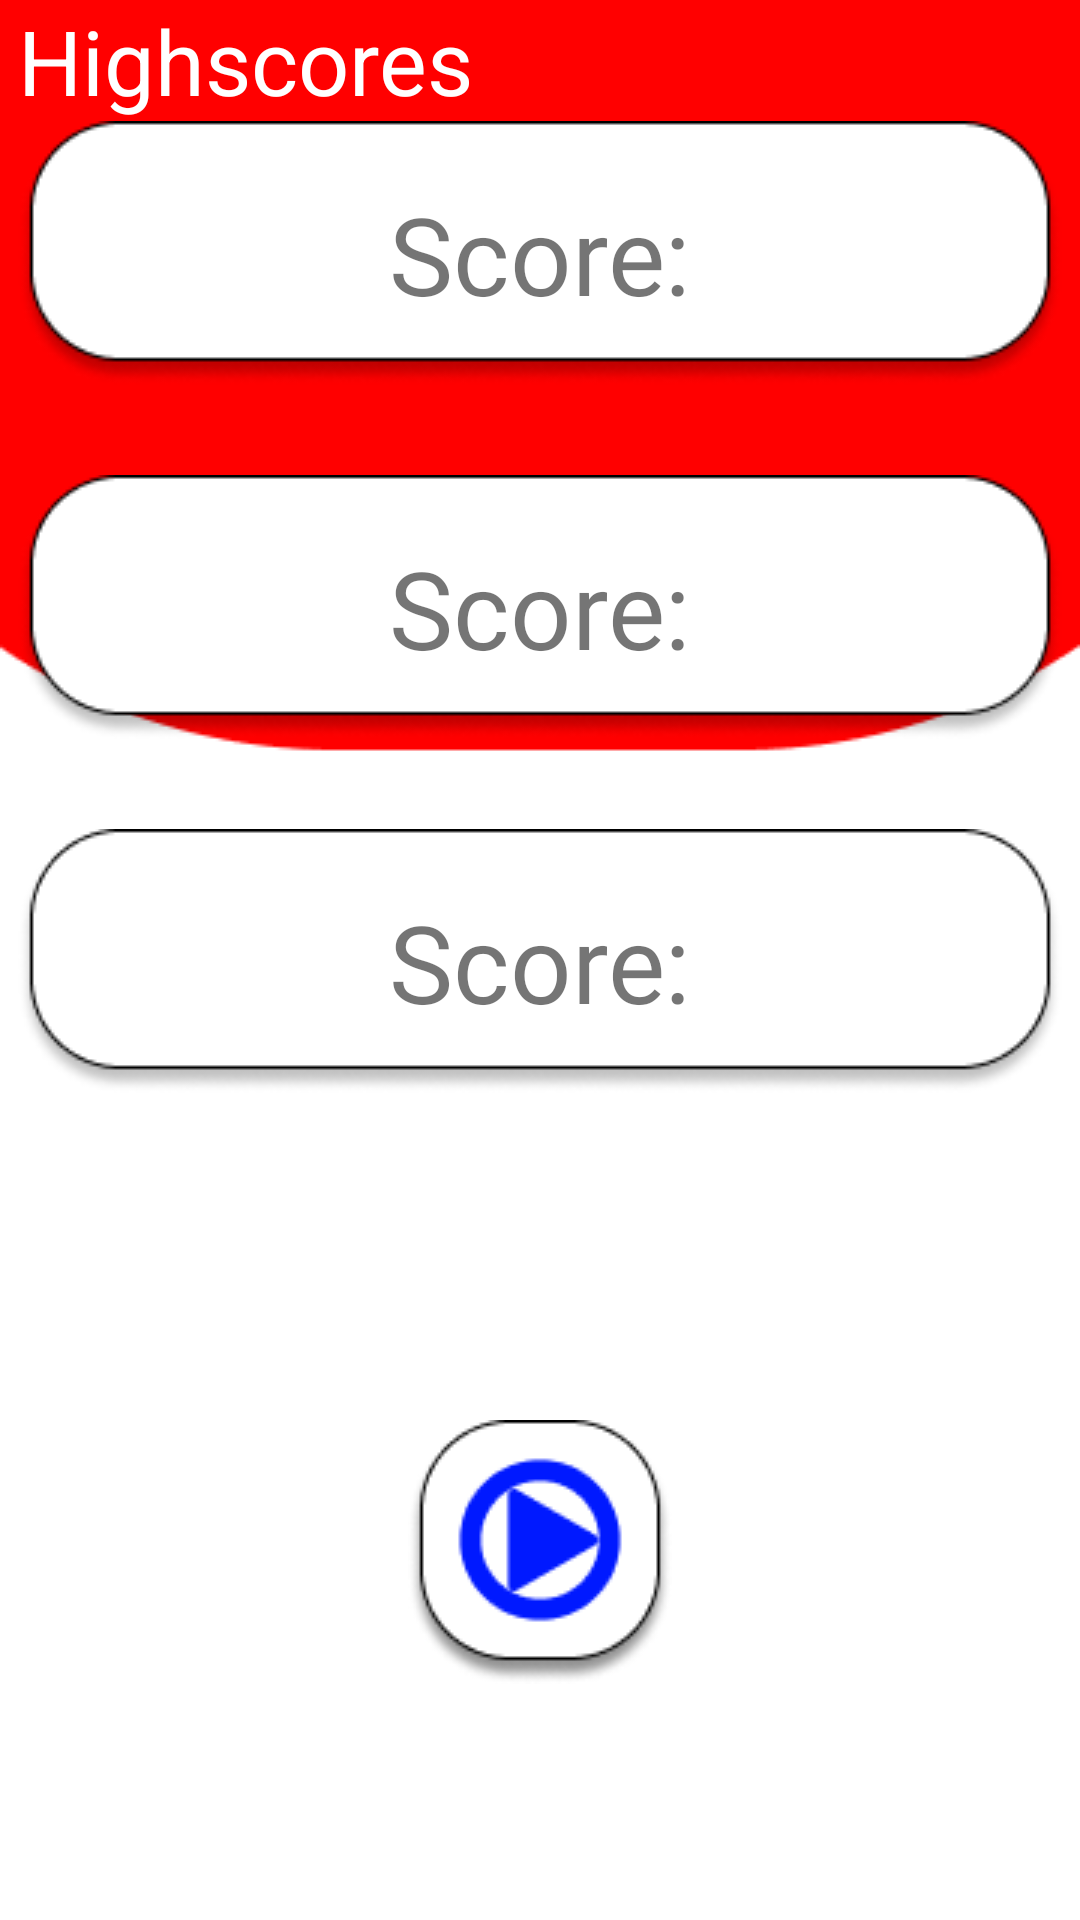

Where to tap for icons on this 1080*1920 app screen, as point (x, y):
playdos: point (540, 1548)
